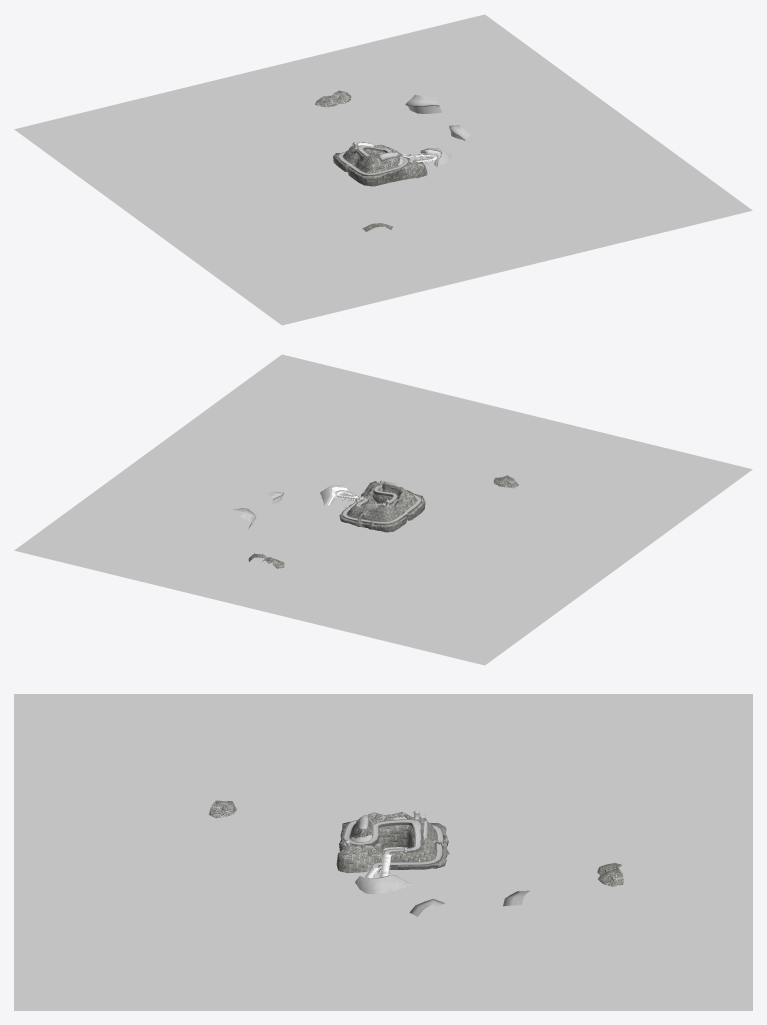
Rendered from snowtuxpeak_track.glb.
3 views of the same model, one above another, from view 1: azimuth 30°, elevation 25°; view 2: azimuth 150°, elevation 25°; view 3: azimuth 270°, elevation 25° (orthographic). The views are drawn at different scales.
Parts seen in each view (by area): view 1: ice.png__, snowrock.jpg__, snowroad.jpg__; view 2: ice.png__, snowrock.jpg__, snowroad.jpg__; view 3: ice.png__, snowrock.jpg__, snowroad.jpg__.
Boxes of the visible parts, x1,y1,x2,y2 form: ice.png__: (14,14,752,325); snowrock.jpg__: (315,90,427,231); snowroad.jpg__: (338,94,470,175); ice.png__: (14,354,752,665); snowrock.jpg__: (248,475,518,568); snowroad.jpg__: (232,480,421,524); ice.png__: (14,694,752,1010); snowrock.jpg__: (208,800,624,886); snowroad.jpg__: (343,810,529,916).
Bounding box in the file's own units: 1377 × 126 × 1358.
Materials: 16 (6 with a texture image).
